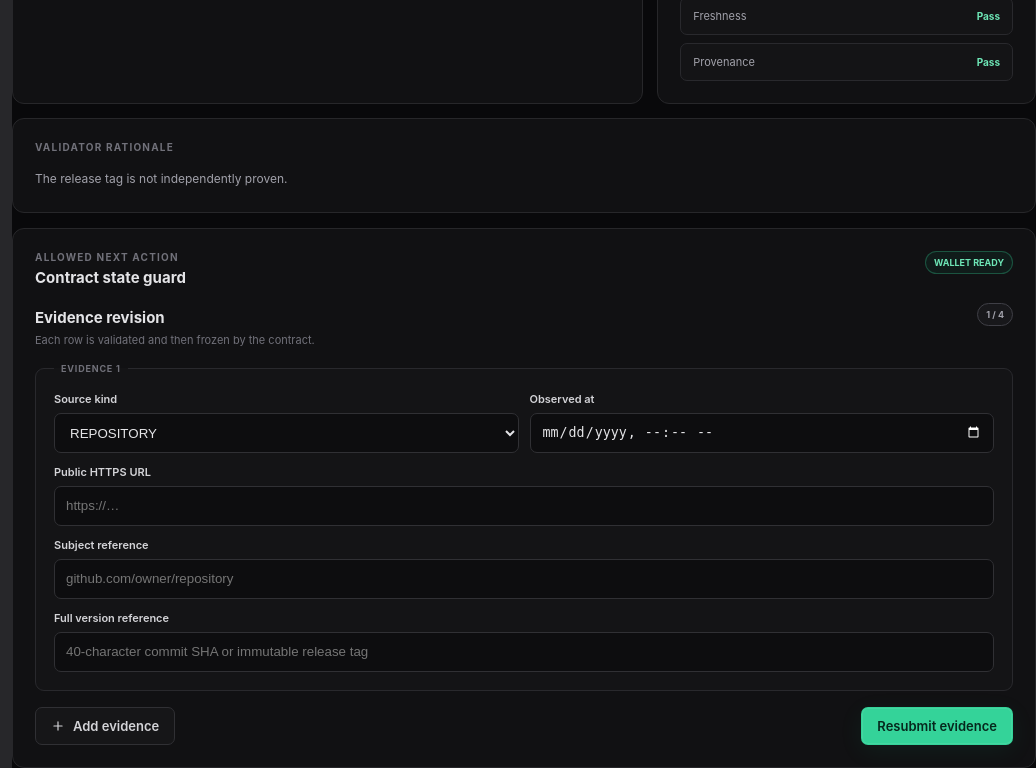
Test case: SubmissionDetail › routes a confirmed resubmit to the new submission digest
The image size is (1036, 768).
(page scrolled)
Select "RELEASE" in the dropdown named "Evidence 1 source kind" at (286, 433), box left=54, top=413, right=518, bottom=453
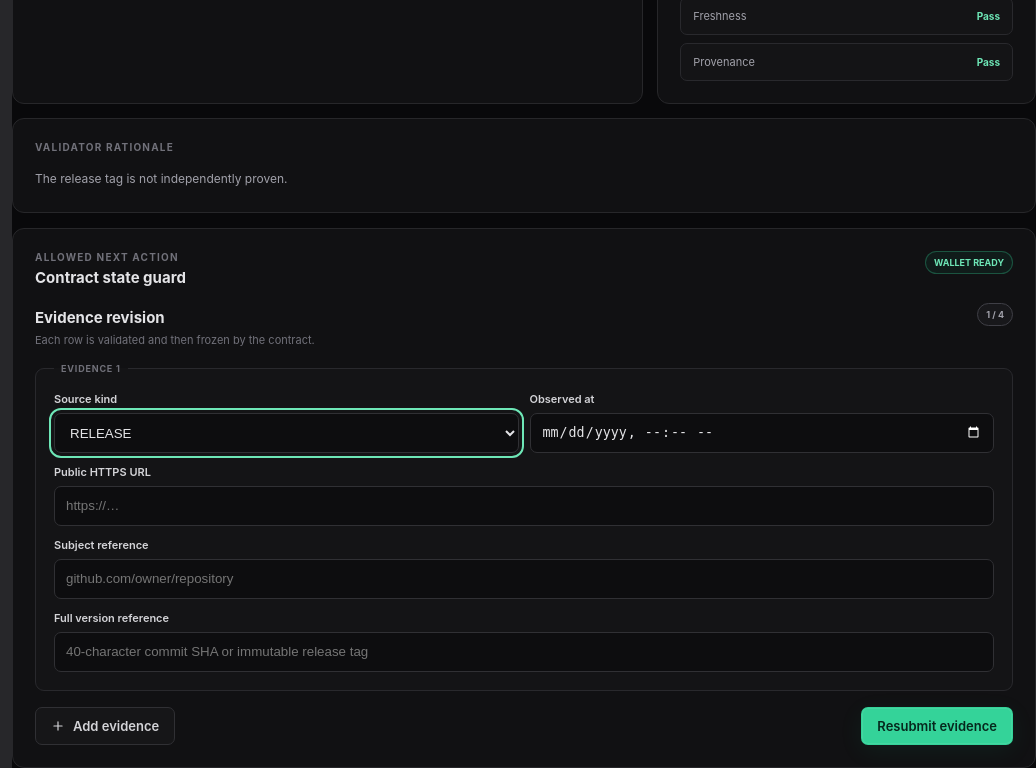
Type "https://github.com/example/compiler/releases/tag/v2" into the field named "Evidence 1 URL" at (524, 506), box left=54, top=486, right=994, bottom=526
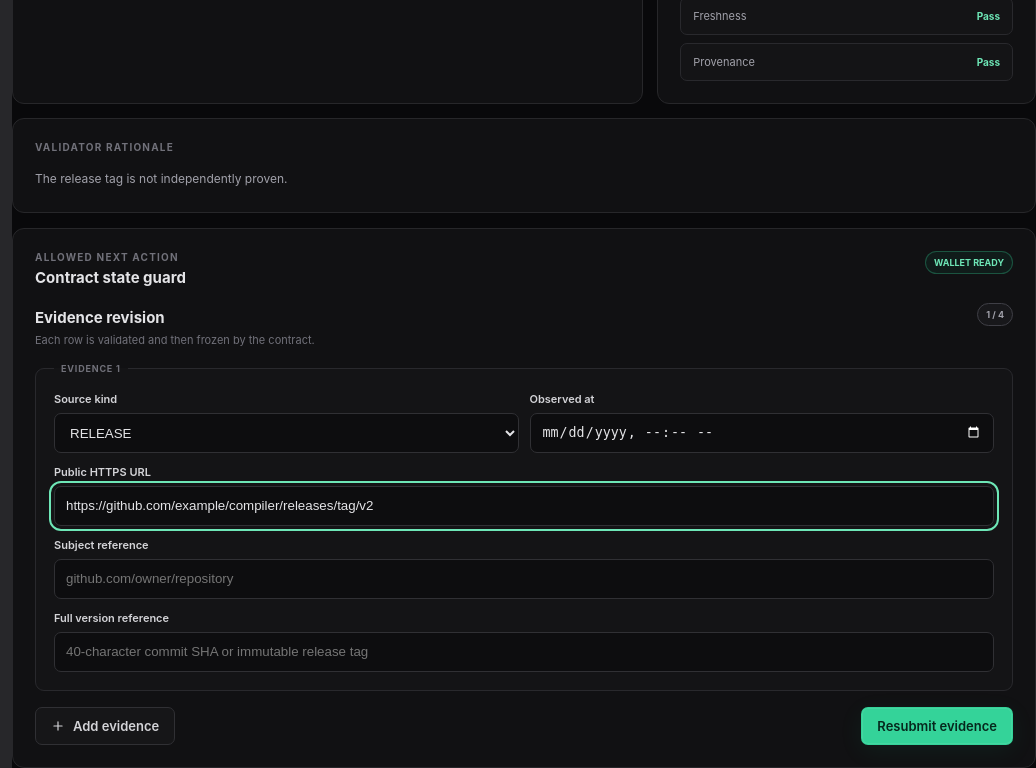
Type "github.com/example/compiler" into the field named "Evidence 1 subject" at (524, 579), box left=54, top=559, right=994, bottom=599
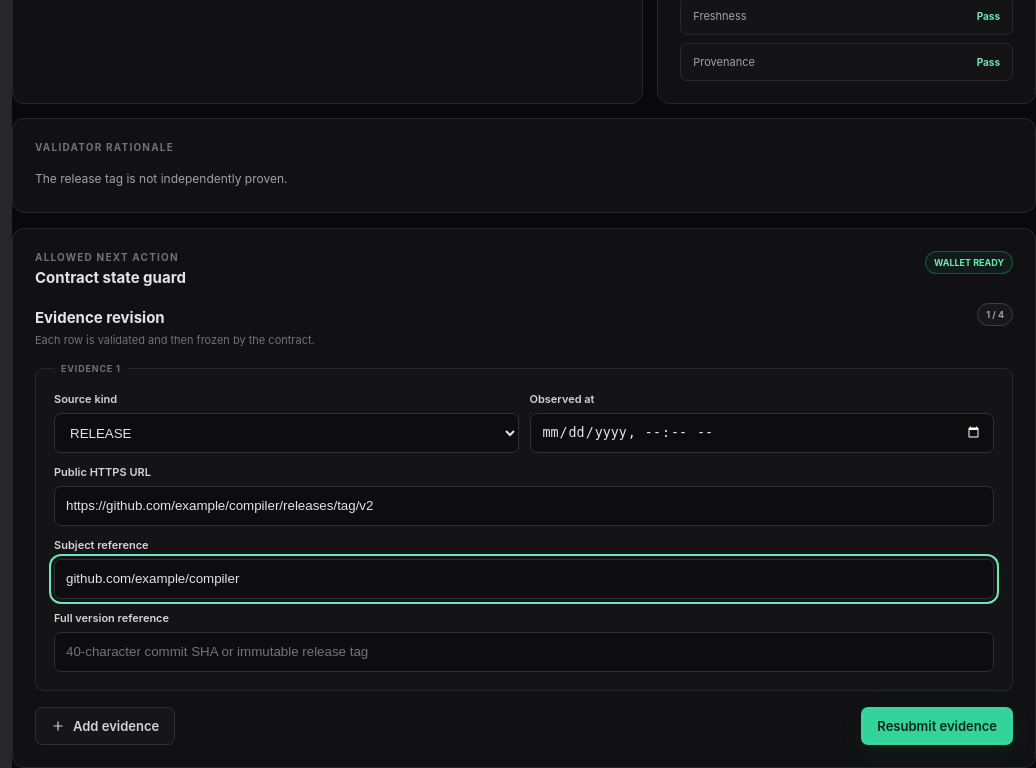
Type "v2" into the field named "Evidence 1 version" at (524, 652), box left=54, top=632, right=994, bottom=672
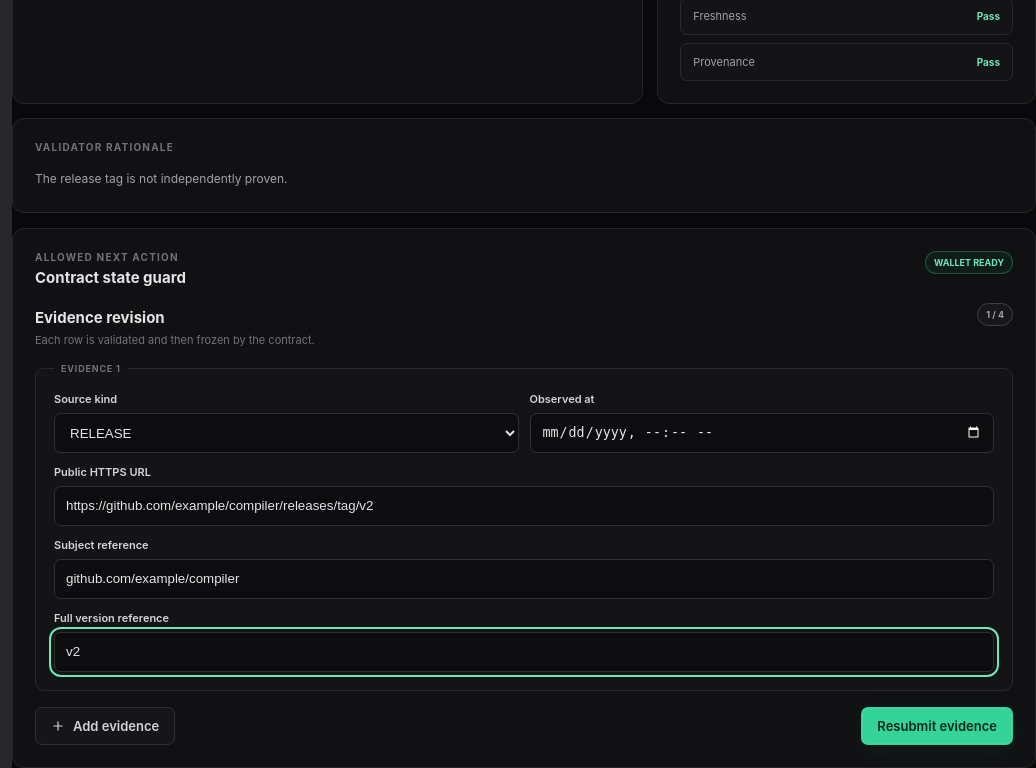
Type "2027-01-15T15:01" into the field named "Evidence 1 observed at" at (762, 433), box left=530, top=413, right=994, bottom=453
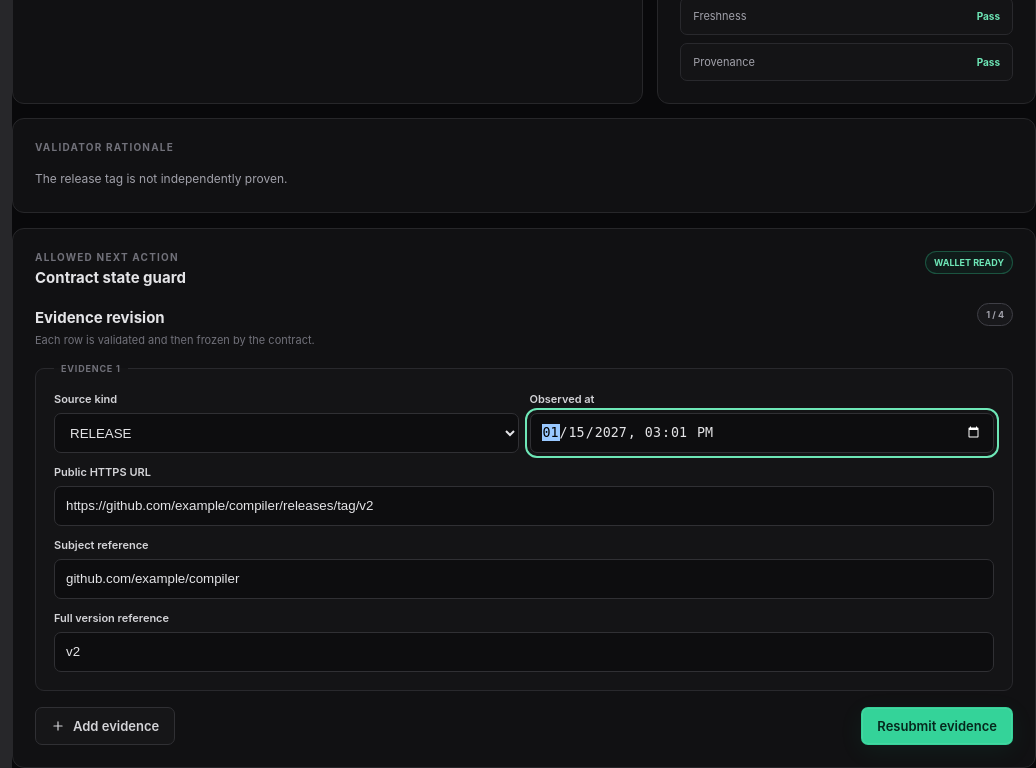
Click the button "Resubmit evidence" at (937, 726), box left=861, top=707, right=1013, bottom=745
(page scrolled)
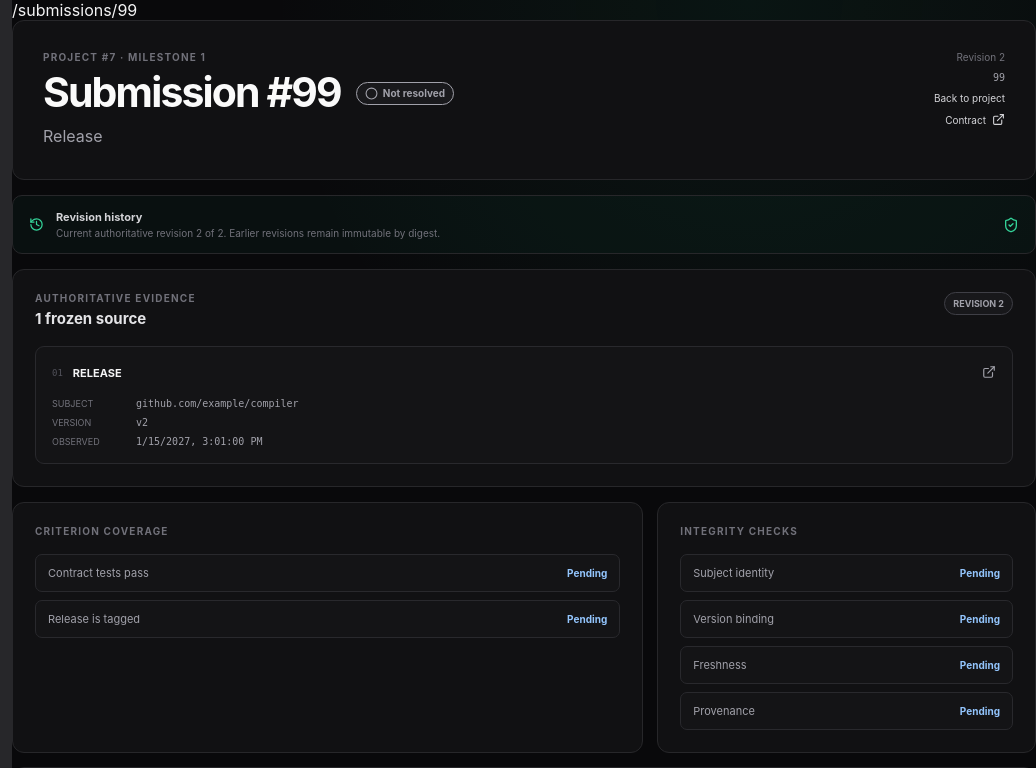
expect the text with test id "location" reads "/submissions/99": met, box left=12, top=0, right=137, bottom=20
